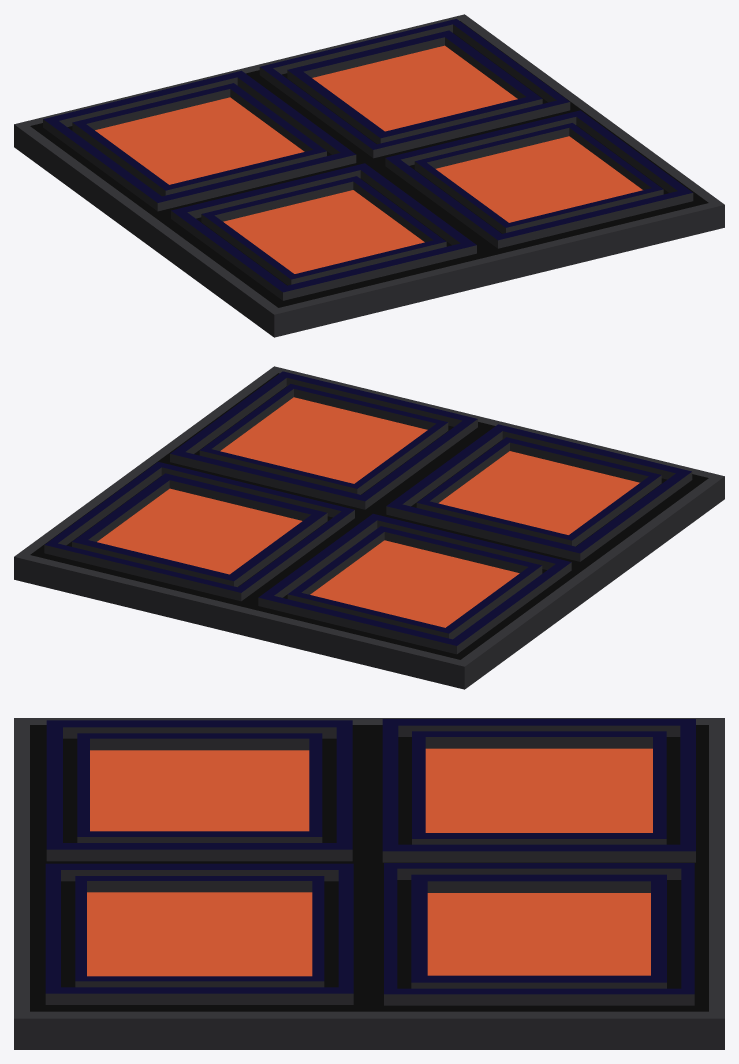
File: Wall_Hangar.fbx
3 renders of one model, top to bottom at view 1: azimuth 30°, elevation 25°; view 2: azimuth 150°, elevation 25°; view 3: azimuth 270°, elevation 25°, orthographic. The views are drawn at different scales.
Visible parts, largest first — view 1: Wall; view 2: Wall; view 3: Wall.
Boxes of the visible parts, x1,y1,x2,y2 form: Wall: [14, 14, 724, 337]; Wall: [14, 366, 724, 689]; Wall: [14, 718, 724, 1049].
Bounding box in the file's own units: 1590 × 106 × 1590.
